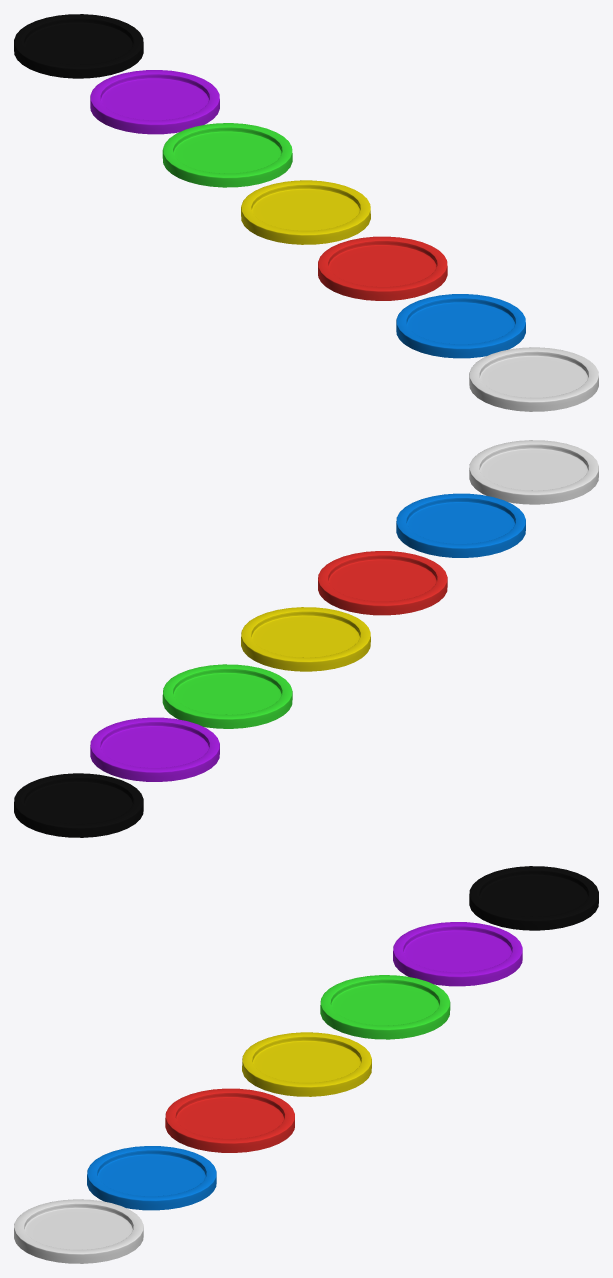
Rendered from lingkaran.fbx.
3 renders of one model, top to bottom at view 1: azimuth 30°, elevation 25°; view 2: azimuth 150°, elevation 25°; view 3: azimuth 330°, elevation 25°, orthographic.
Visible parts, largest first — view 1: Circle.004, Circle.003, Circle, Circle.002, Circle.006, Circle.001, Circle.005; view 2: Circle.005, Circle.006, Circle.001, Circle.003, Circle.002, Circle, Circle.004; view 3: Circle.004, Circle.003, Circle, Circle.002, Circle.006, Circle.001, Circle.005.
Boxes of the visible parts, x1,y1,x2,y2 form: Circle.004: (162,123,292,187); Circle.003: (241,180,370,244); Circle: (469,347,598,411); Circle.002: (318,236,447,300); Circle.006: (14,14,143,78); Circle.001: (396,294,525,358); Circle.005: (90,70,219,134); Circle.005: (90,717,219,781); Circle.006: (14,773,143,837); Circle.001: (396,493,525,557); Circle.003: (241,607,370,671); Circle.002: (318,551,447,615); Circle: (469,440,598,504); Circle.004: (162,664,292,728); Circle.004: (320,975,450,1039); Circle.003: (242,1032,371,1096); Circle: (14,1199,143,1263); Circle.002: (165,1088,294,1152); Circle.006: (469,866,598,930); Circle.001: (87,1146,216,1210); Circle.005: (393,922,522,986).
Size of the model in its own units: 31.07 by 2.63 by 249.
